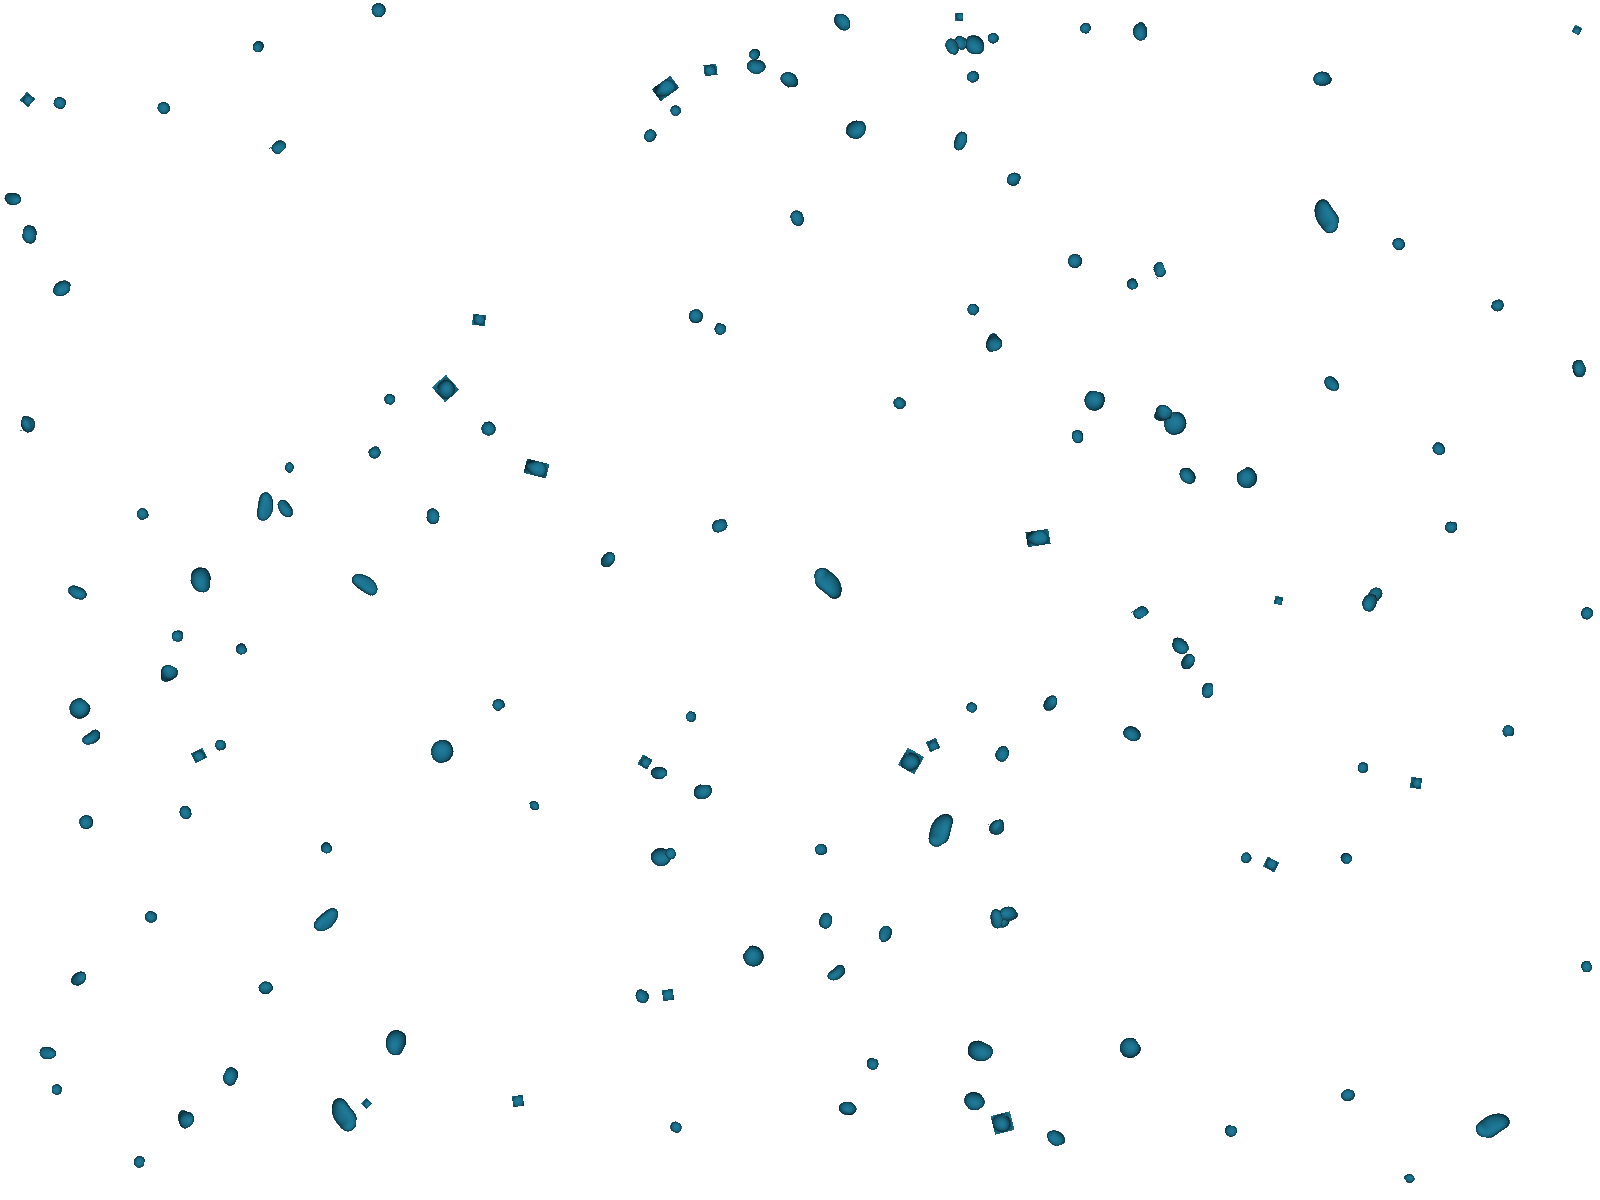drop: (918, 809, 963, 851), (1309, 195, 1343, 237), (1471, 1108, 1513, 1142), (309, 903, 344, 939), (328, 1095, 360, 1134), (813, 563, 844, 603), (346, 568, 384, 599), (963, 1036, 997, 1066), (380, 1026, 411, 1059), (1231, 464, 1262, 494), (738, 942, 769, 973), (63, 693, 94, 724), (646, 843, 677, 874), (959, 1087, 989, 1117), (1114, 1032, 1144, 1063), (428, 737, 457, 766), (1162, 408, 1191, 437), (170, 1103, 199, 1132), (1146, 400, 1175, 429), (431, 374, 460, 403), (154, 661, 181, 689), (947, 127, 975, 155), (897, 747, 925, 775), (64, 579, 91, 608), (651, 76, 680, 102), (821, 961, 850, 986), (1119, 721, 1145, 747), (984, 905, 1010, 932), (1080, 388, 1107, 413), (34, 1041, 60, 1066), (743, 53, 769, 79), (981, 328, 1007, 354), (77, 726, 105, 750), (256, 490, 275, 524), (1128, 20, 1153, 45), (189, 566, 212, 594), (939, 34, 963, 59), (872, 921, 897, 945), (995, 903, 1020, 926), (1309, 67, 1334, 91), (1, 187, 26, 211), (648, 760, 671, 785), (844, 118, 869, 142), (990, 1111, 1015, 1134), (523, 458, 551, 479), (1063, 250, 1087, 274), (1044, 1126, 1068, 1150), (1567, 355, 1590, 381), (219, 1064, 242, 1089), (949, 33, 971, 55), (253, 976, 276, 998), (477, 417, 500, 440), (140, 906, 163, 929), (963, 34, 985, 57), (991, 742, 1013, 766), (1026, 528, 1051, 548), (368, 0, 391, 21), (991, 910, 1014, 932), (68, 967, 89, 989), (815, 910, 837, 933), (1002, 168, 1023, 189), (631, 987, 653, 1008), (1177, 465, 1198, 487), (963, 66, 984, 87), (1427, 439, 1449, 460), (639, 125, 660, 146), (50, 277, 72, 299), (889, 393, 911, 415), (18, 413, 39, 435), (275, 498, 295, 521), (1170, 637, 1192, 657), (961, 299, 981, 320), (20, 223, 39, 246), (488, 693, 508, 713), (1178, 650, 1198, 671), (986, 818, 1007, 838), (268, 137, 289, 158), (1121, 274, 1141, 294), (315, 838, 335, 858), (1361, 592, 1380, 614), (1443, 517, 1461, 538), (1130, 603, 1151, 621), (837, 1100, 859, 1118), (1322, 374, 1340, 395), (831, 13, 852, 32), (711, 321, 731, 340), (131, 504, 151, 523), (1335, 850, 1356, 868), (745, 43, 763, 63), (231, 639, 249, 659), (666, 102, 685, 121), (1236, 850, 1255, 868), (813, 839, 831, 858), (1041, 693, 1060, 712), (598, 550, 617, 568), (1577, 604, 1596, 623), (154, 98, 173, 117), (50, 93, 69, 112), (1390, 234, 1409, 253), (248, 37, 267, 55), (1364, 585, 1385, 603), (367, 442, 384, 463), (687, 308, 704, 326), (963, 700, 981, 717), (682, 708, 699, 727), (779, 71, 797, 88), (1577, 957, 1595, 976), (661, 845, 679, 863), (425, 507, 441, 527), (709, 518, 729, 534), (1151, 260, 1168, 280), (176, 804, 194, 822), (19, 91, 37, 108), (1262, 856, 1280, 874), (77, 814, 96, 831), (789, 208, 805, 227), (666, 1119, 685, 1136), (693, 784, 713, 799), (1077, 19, 1094, 37), (190, 747, 208, 764), (1222, 1124, 1238, 1141), (985, 29, 1002, 45), (281, 459, 297, 475), (1402, 1170, 1419, 1186), (49, 1082, 64, 1099), (1070, 429, 1085, 445), (1490, 297, 1506, 314), (169, 629, 184, 645), (213, 737, 229, 753), (380, 392, 397, 407), (637, 754, 653, 770), (925, 737, 941, 753), (1201, 682, 1214, 700), (1340, 1087, 1356, 1102), (1499, 724, 1516, 737), (866, 1058, 882, 1071), (1409, 776, 1424, 790), (703, 63, 718, 77), (528, 798, 542, 813), (1356, 760, 1369, 774), (511, 1094, 525, 1108), (661, 988, 675, 1002), (472, 314, 486, 326), (360, 1097, 373, 1111), (1571, 24, 1584, 37), (134, 1155, 145, 1168), (954, 13, 964, 21), (1274, 596, 1283, 605)
